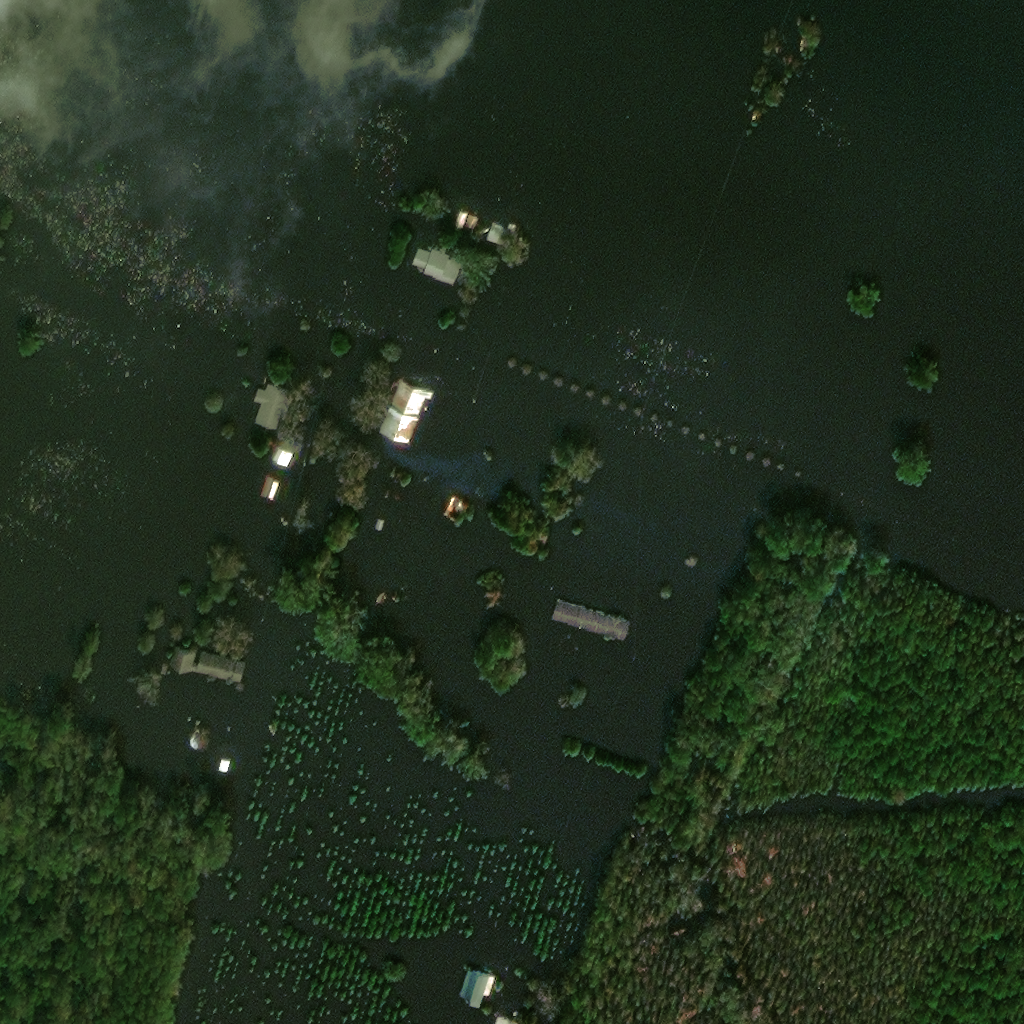major_damage: (380, 381, 434, 443), (552, 600, 632, 640), (413, 248, 461, 286), (194, 651, 246, 681), (254, 381, 289, 425), (459, 969, 495, 1008), (486, 223, 518, 247), (170, 647, 194, 669), (261, 474, 282, 499), (448, 497, 469, 522), (273, 447, 293, 465), (455, 211, 467, 226), (466, 216, 478, 230), (218, 759, 232, 771), (378, 520, 386, 530)
